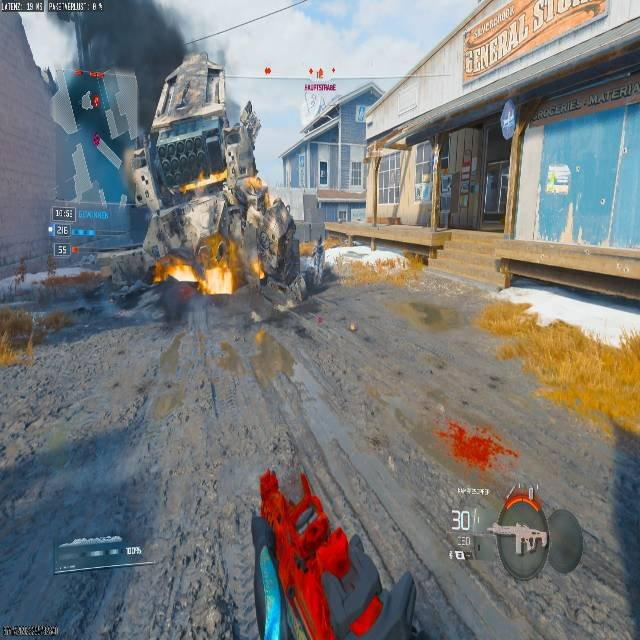player: (134, 51, 296, 299), (15, 258, 26, 283)
